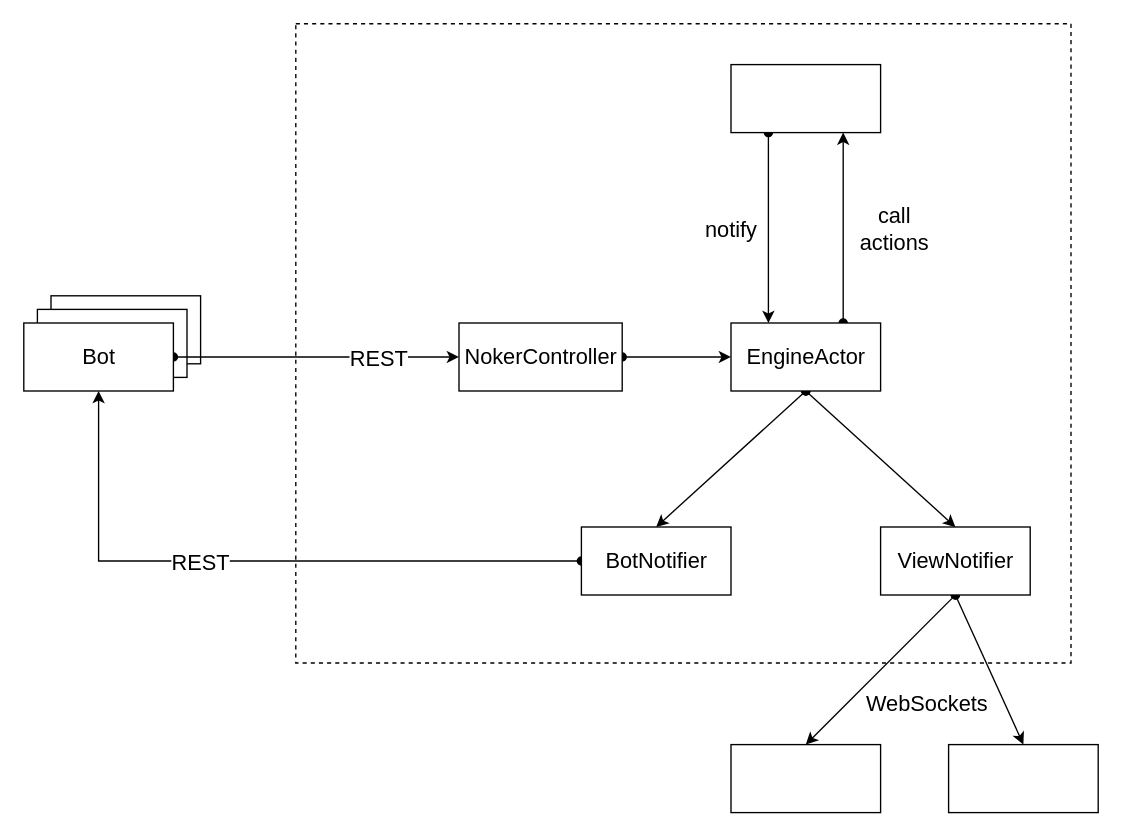
Some shapes in this 1122 by 836 pixel diagram are drawn without their labels. Here are the shapes that lost their labels. From the top down, the centre of each, then its label:
At [805,98]: "Game (Domain)".
At [805,778]: "Browser1".
At [1022,778]: "Browser2".
